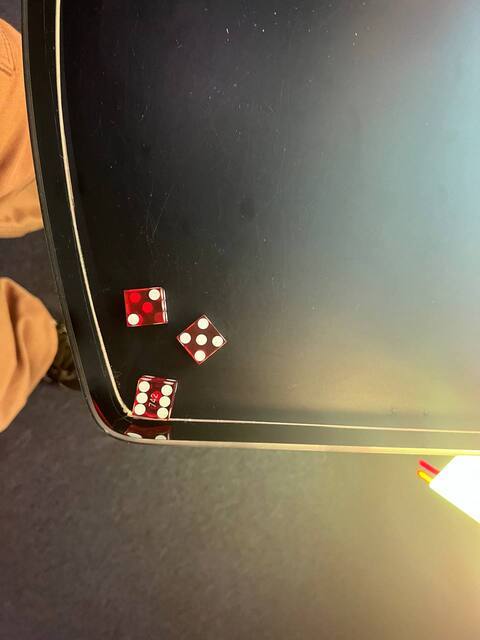five: (174, 312, 226, 362)
six: (128, 377, 178, 425)
two: (120, 285, 165, 329)
